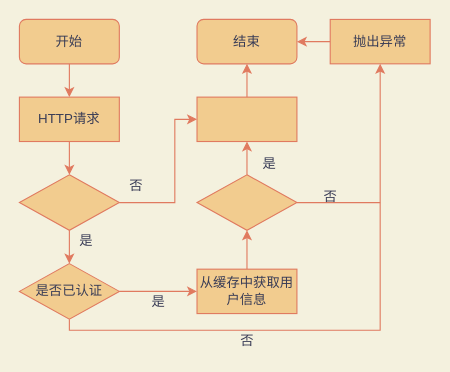
The diagram is 450 pixels wide and 372 high, and some of its shapes have lost their labels. The centre of each missing label's shape, as x and y in pixels:
"执行业务流程" goes at [246,119].
"是否有权限" goes at [246,202].
"需要认证" goes at [68,202].
